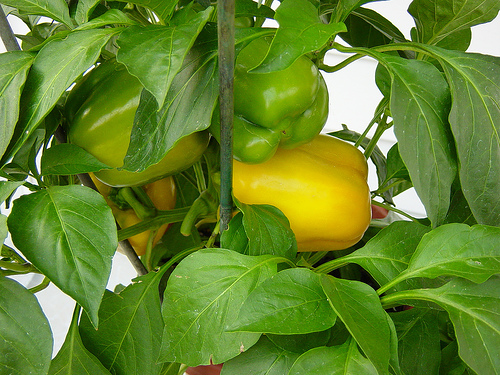capsicum: (59, 56, 211, 190), (209, 133, 374, 254), (214, 31, 330, 165), (87, 173, 176, 256)
